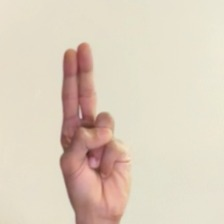U: (44, 35, 147, 224)
